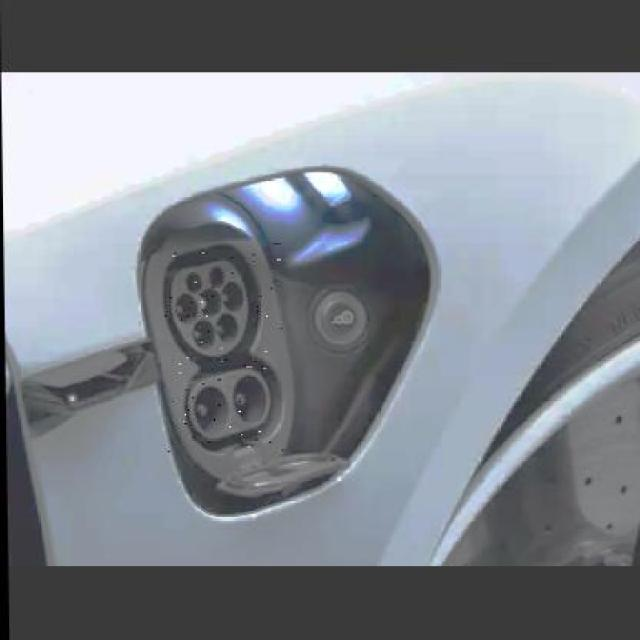CCS2: (139, 193, 305, 484)
